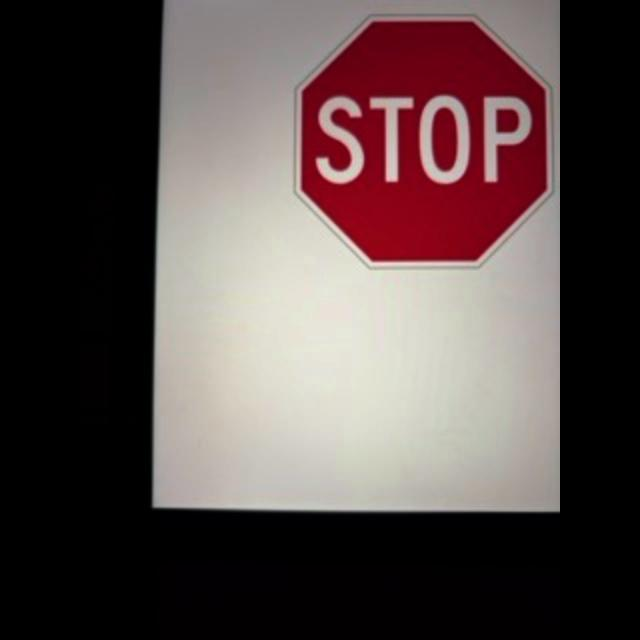STOP: (296, 16, 550, 268)
